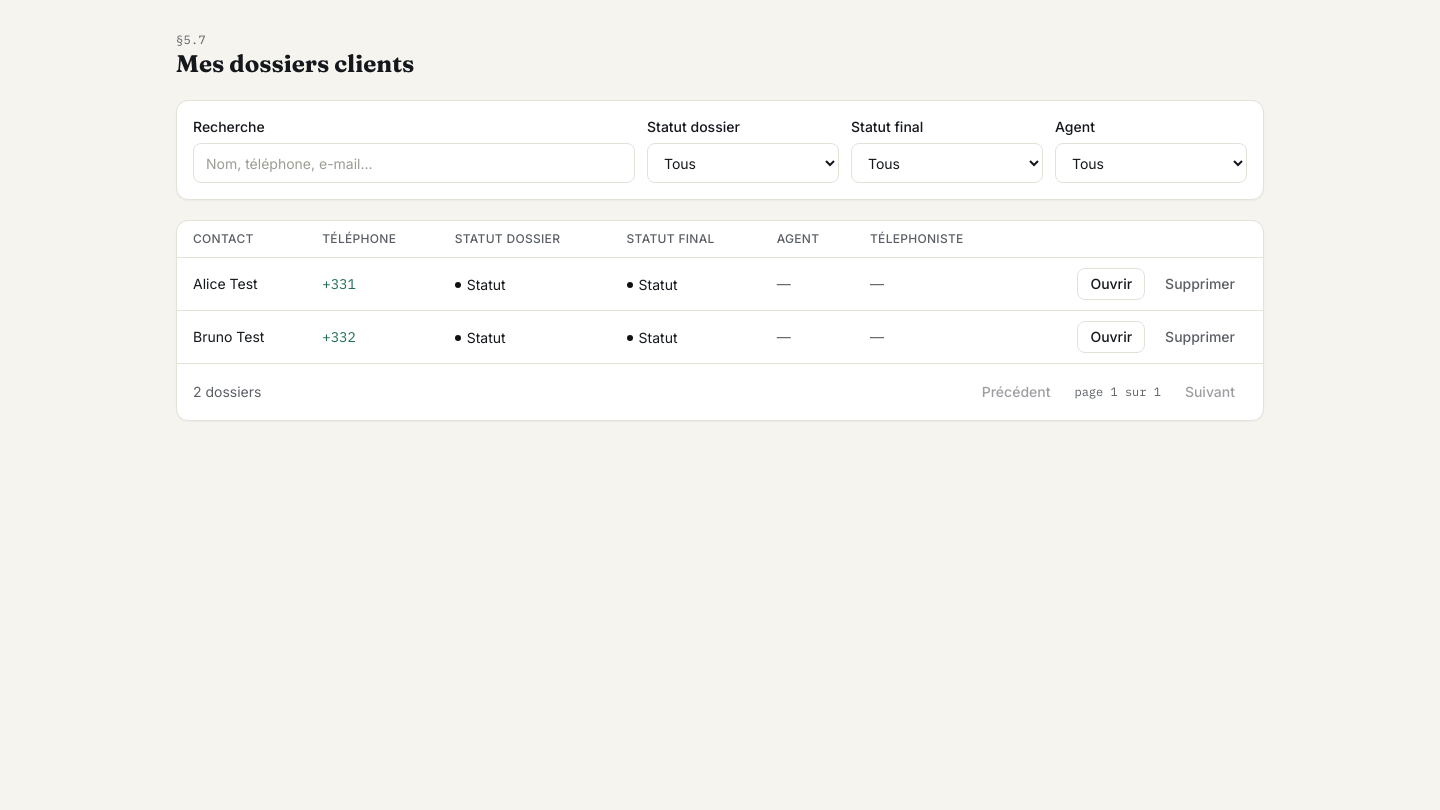
Test: /clients — suppression d'un dossier › avec clients.delete : un bouton par ligne ; confirmation avec irréversibilité ; Annuler ne supprime rien
expect the text "Alice Test" is shown: met, box [177,258,306,310]
Click the button "Supprimer" in the row of "Alice Test". click: (1200, 284)
box: [1153,268,1247,300]
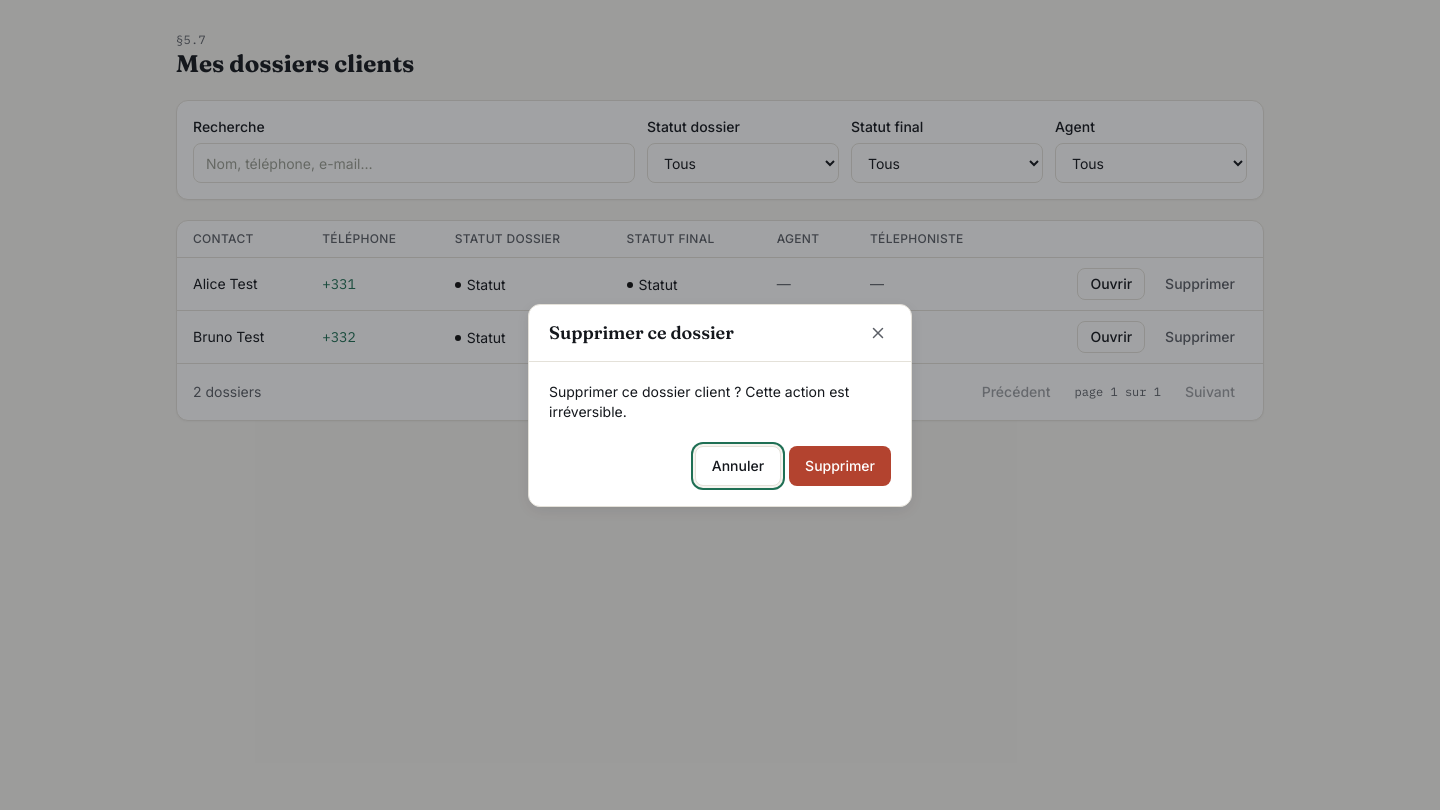
expect the text "Supprimer ce dossier client ? Cette action est irréversible." is shown: met, box [549,382,891,422]
Click the button "Annuler". click: (738, 466)
box: [695,446,781,486]
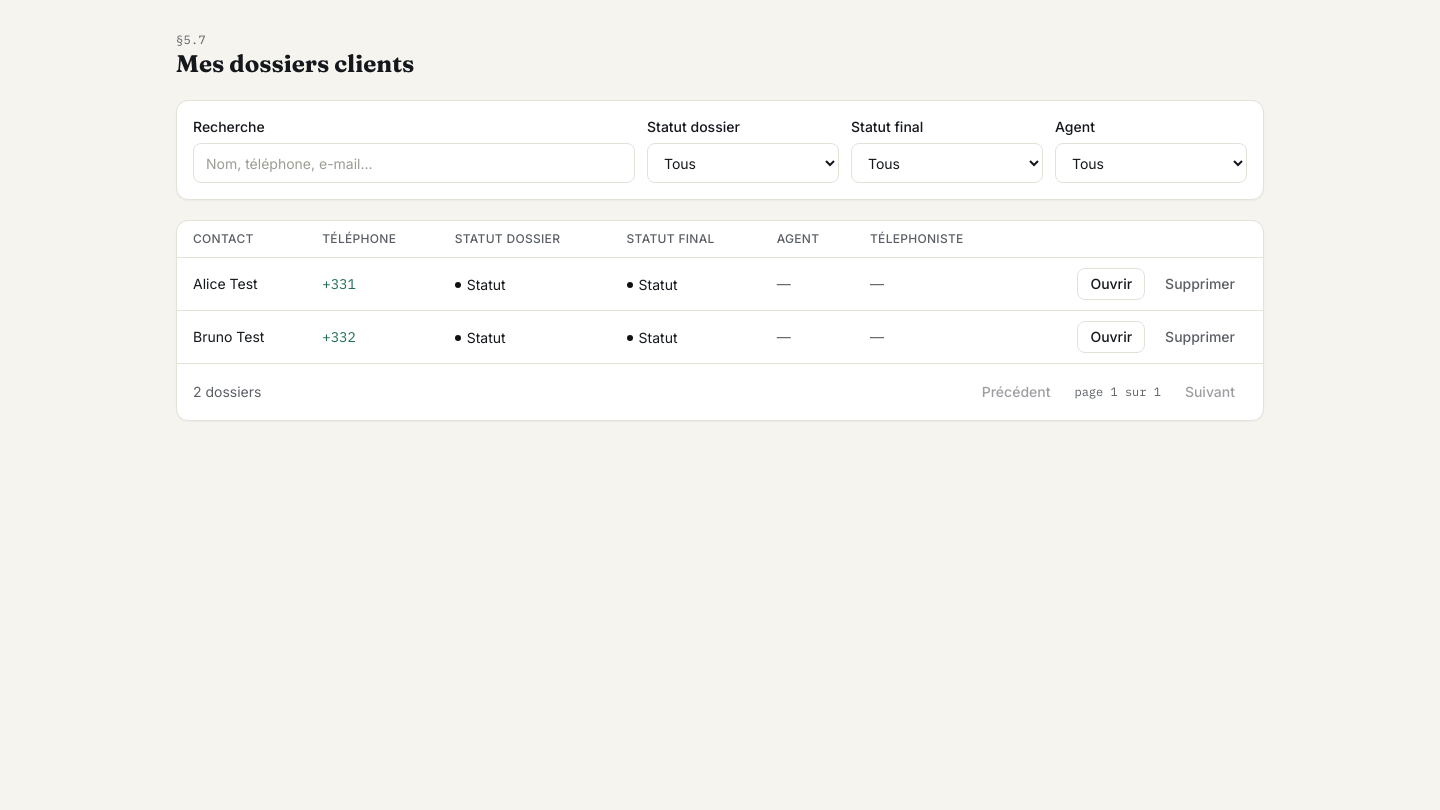
expect the heading "Supprimer ce dossier" is gone: met
